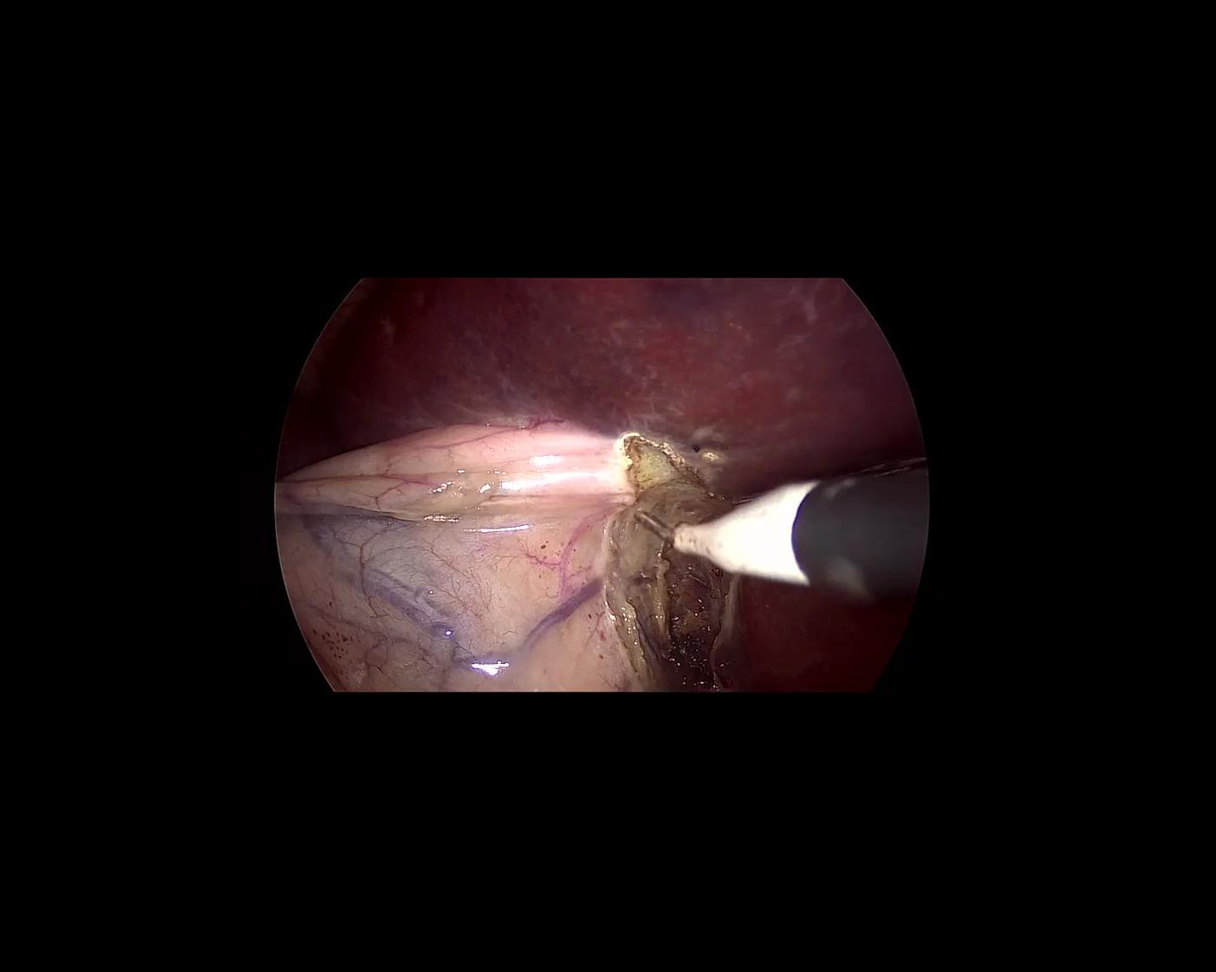Cautery: (626, 429, 933, 609)
Gallbladder: (278, 424, 662, 693)
Liver: (265, 235, 939, 699)
